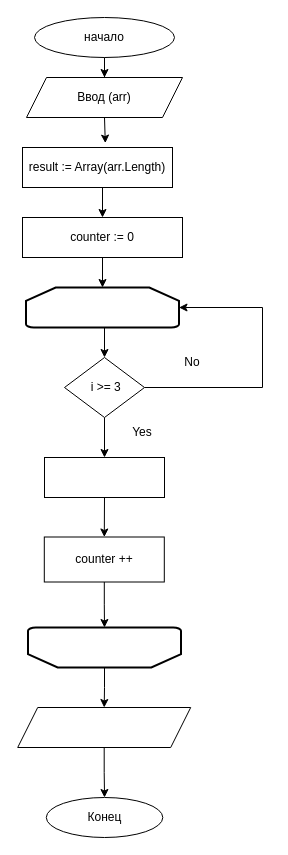
Some shapes in this 288 by 855 pixel diagram are drawn without their labels. Each missing label, with the centre of its shape:
"i in arr" belongs at [102,307].
"result[conter] := i" belongs at [104,477].
"return result" belongs at [104,727].
